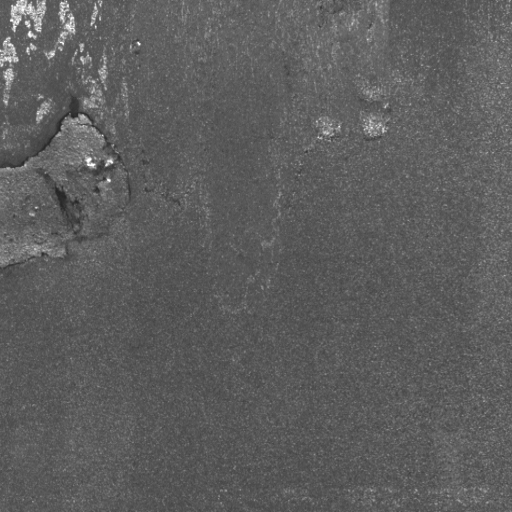aokeng: (356, 105, 396, 143), (309, 113, 346, 145)
